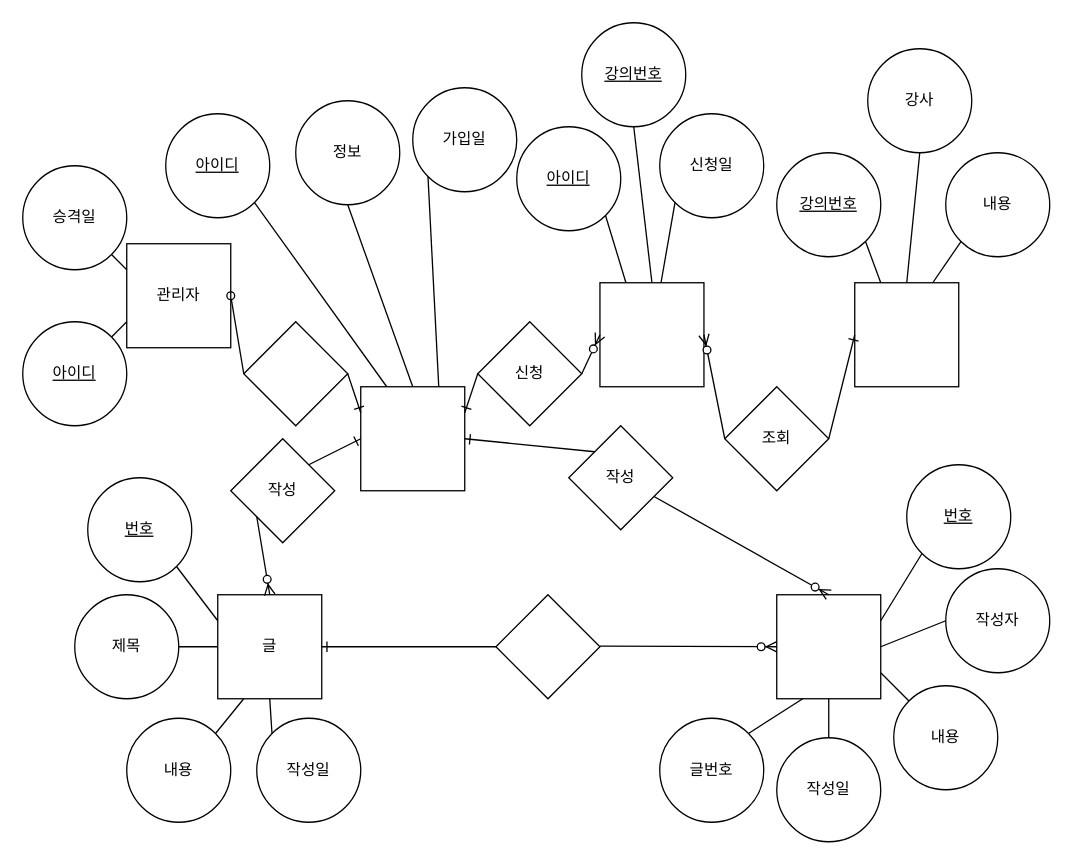
Some shapes in this 1073 by 864 pixel diagram are drawn without their labels. The box of each missing label's shape, as (x1, y1, x2, y2) in pixels:
강의: (853, 281, 959, 387)
강의신청: (599, 281, 704, 387)
관리: (242, 320, 348, 426)
댓글: (775, 593, 881, 699)
포함: (495, 593, 600, 699)
회원: (359, 385, 465, 491)
